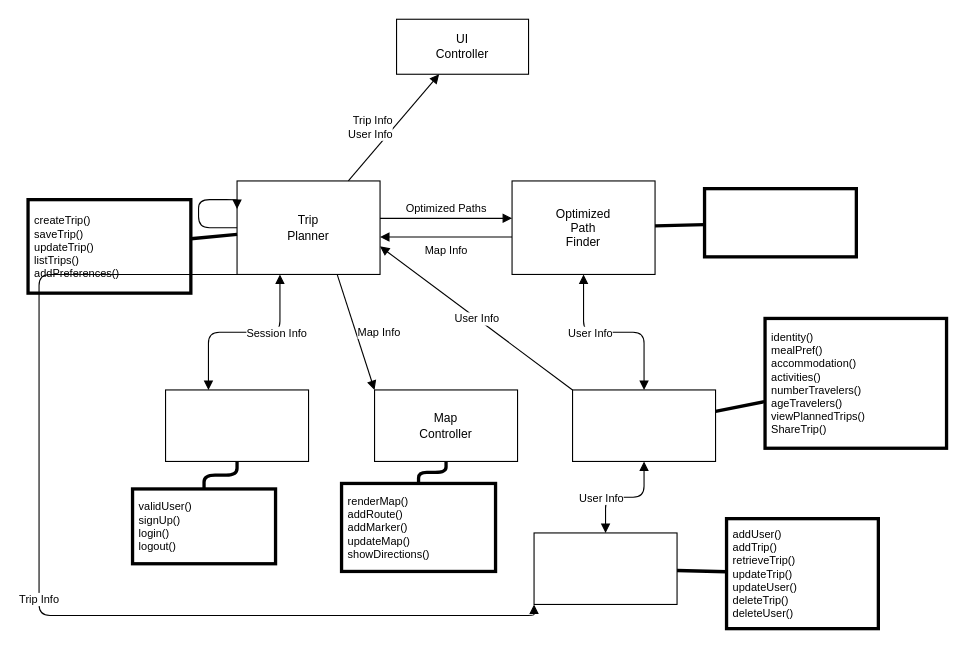
Image size: 967x649. Some labels were removed from this diagram. The centre of each missing label's shape, as x and y in pixels:
"Database Manager" goes at pixel 605 568.
"getTrip() generateRoute() saveRoute()" goes at pixel 779 222.
"Session Manager" goes at pixel 236 425.
"User Profile" goes at pixel 643 425.
